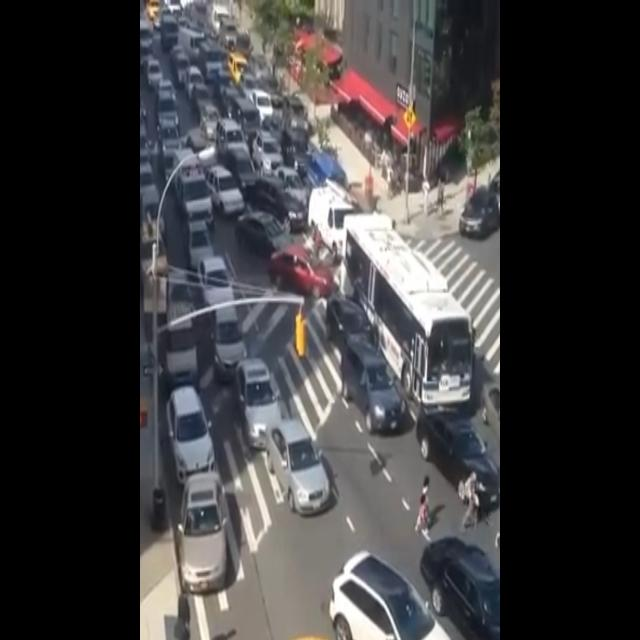Ambulance: (168, 141, 214, 227)
